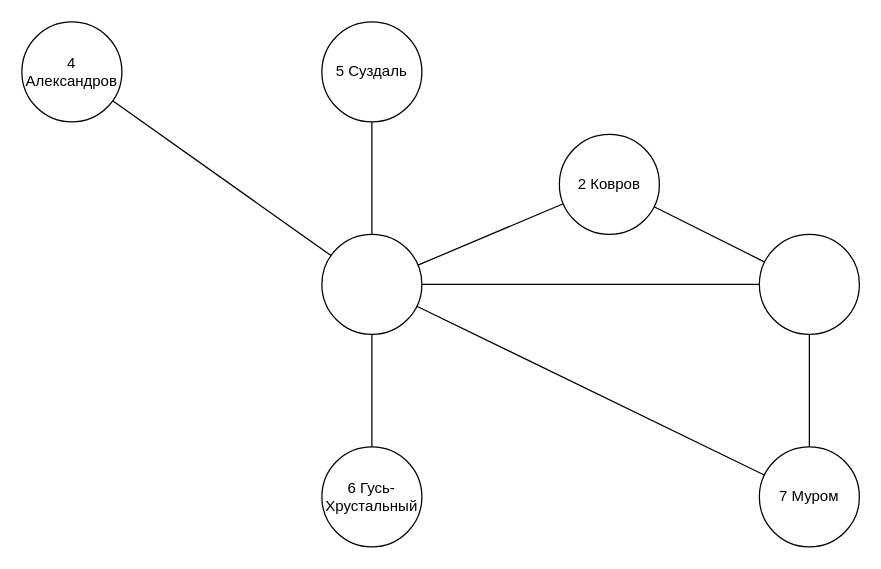
The diagram is 881 pixels wide and 569 high, and some of its shapes have lost their labels. The shapes that lost their labels are listed below. From the top down, each one's centre as x and y in pixels, then its label:
(371,283): 1 Владимир
(808,283): 3 Вязники
